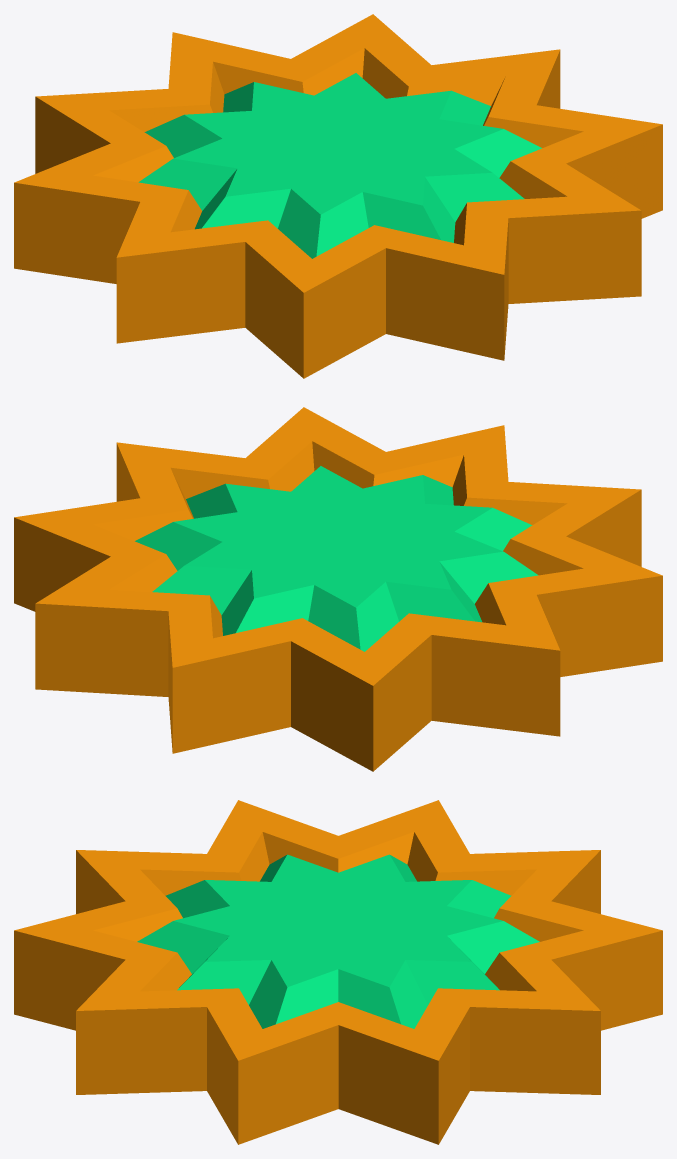
The model's file is sun (1).fbx.
The picture shows the model from 3 angles, top to bottom: view 1: azimuth 30°, elevation 25°; view 2: azimuth 150°, elevation 25°; view 3: azimuth 270°, elevation 25°; orthographic projection. The views are drawn at different scales.
Parts seen in each view (by area): view 1: Circle; view 2: Circle; view 3: Circle.
Part boxes in pixels (bbox=[...]): Circle: bbox=[14, 14, 662, 378]; Circle: bbox=[14, 407, 662, 771]; Circle: bbox=[14, 800, 662, 1144].
Bounding box in the file's own units: 276 × 46.16 × 290.
